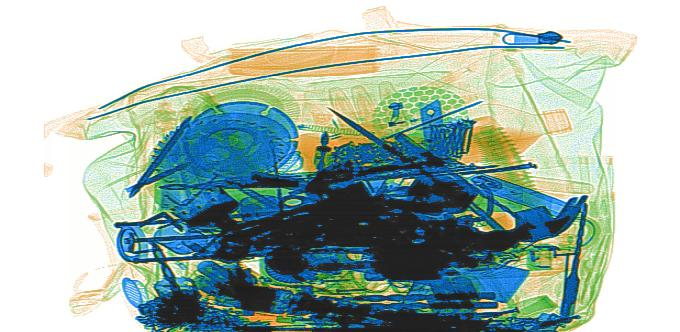knife: (469, 172, 582, 220), (418, 99, 452, 177)
lighter: (366, 105, 436, 134)
